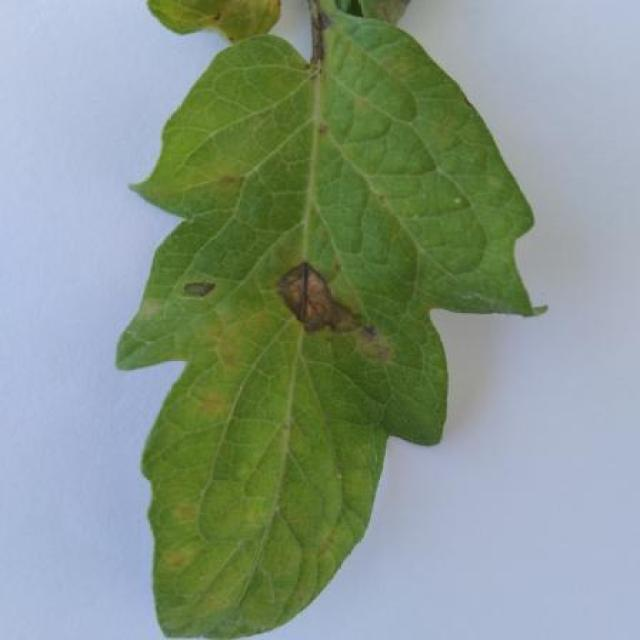Early Blight: (116, 2, 538, 639)
